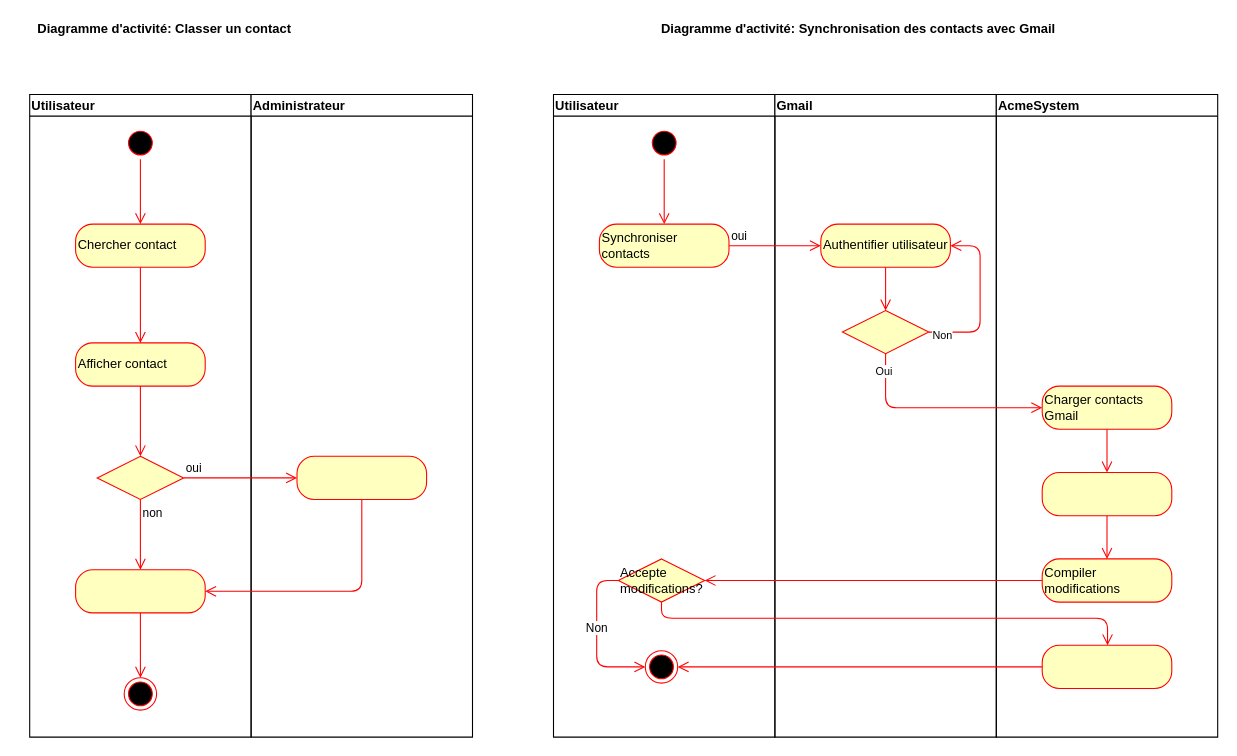
The diagram is 1237 pixels wide and 756 high, and some of its shapes have lost their labels. The shapes that lost their labels are listed below. From the top down, each one's centre as x and y in pixels, then its label:
At pixel 885 331: "Utilisateur authentifié?".
At pixel 140 477: "Nouveau compte?".
At pixel 361 477: "Créer compte".
At pixel 1106 493: "Charger contacts AcmeSystem".
At pixel 140 591: "Activity".
At pixel 1106 666: "Appliquer modifications".
